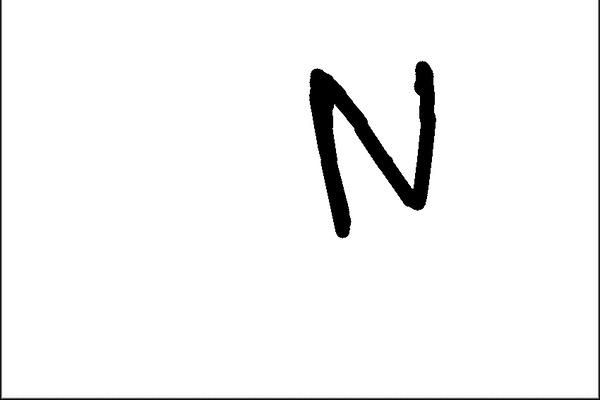N: (303, 54, 446, 243)
